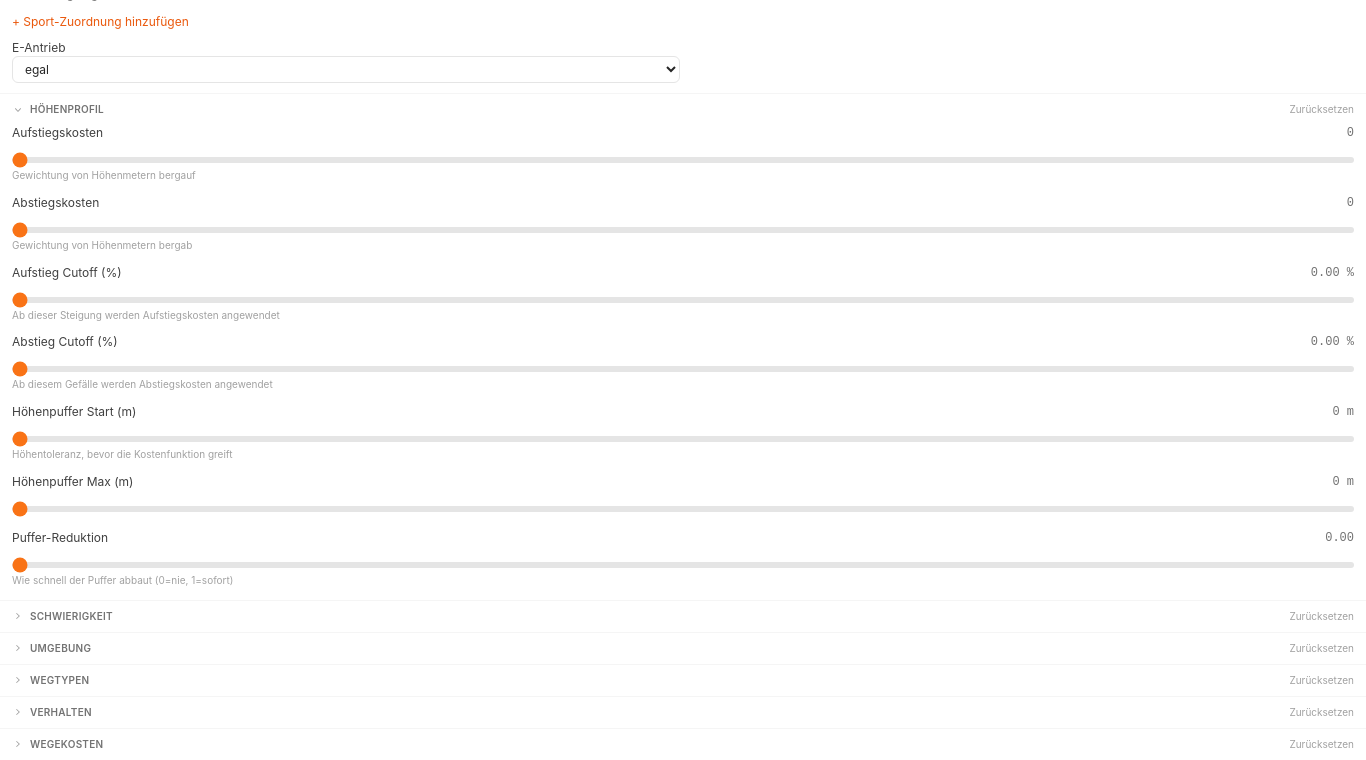
it: ProfileEditor highway labels › renders highway cost labels from the locale catalog
(page scrolled)
Click the button "Wegekosten" at coordinates (67, 744), box [12,736,1289,752]
(page scrolled)
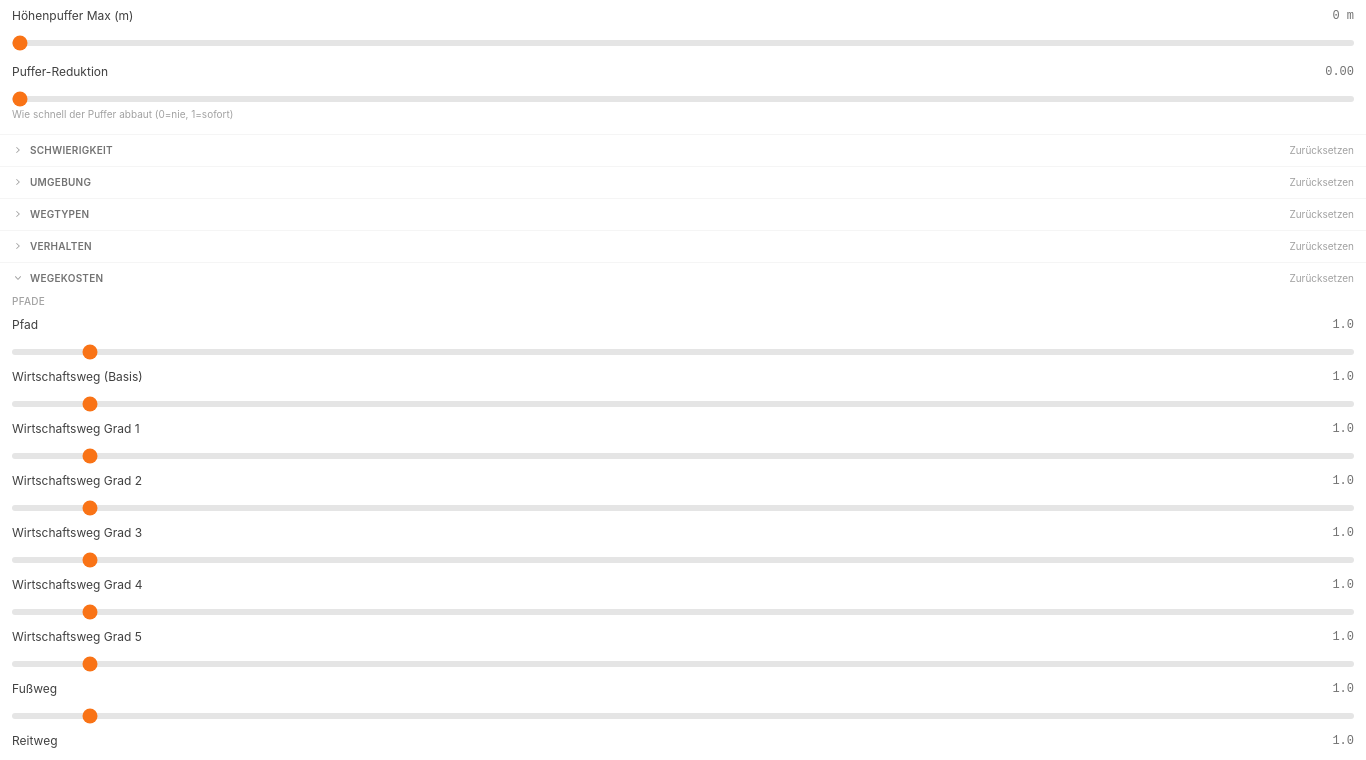
Expected: the text "Pfad" is shown, [12,316,38,332]
Expected: the text "Wirtschaftsweg (Basis)" is shown, [12,368,143,384]
